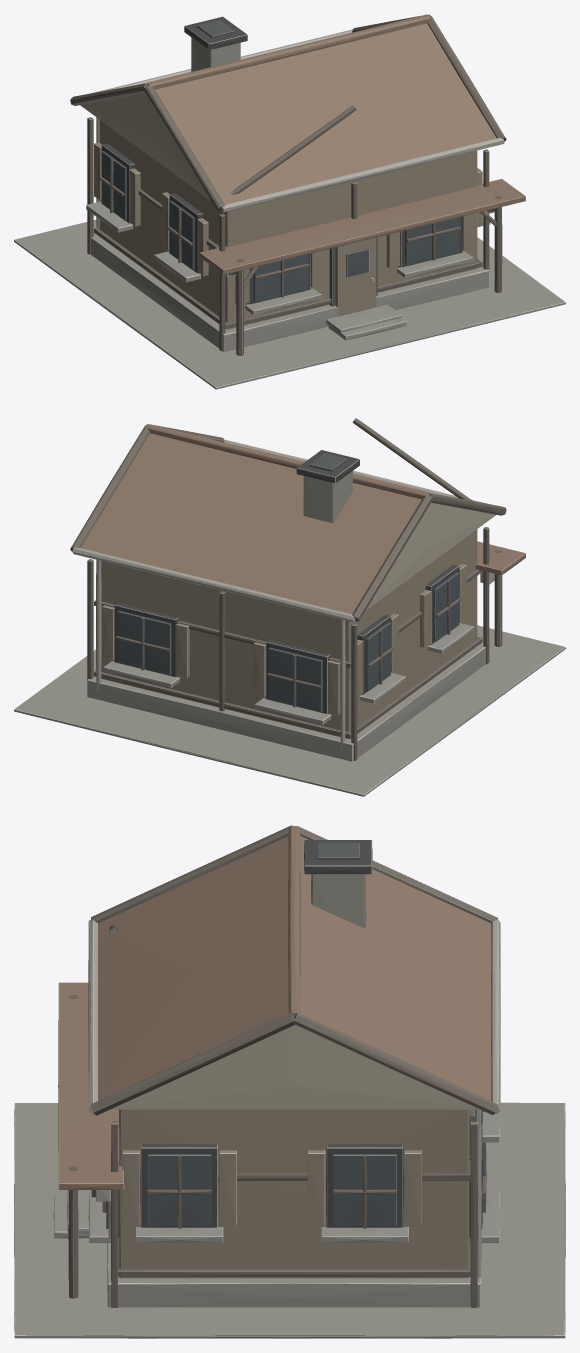
The model's file is district_art_3.glb.
3 renders of one model, top to bottom at view 1: azimuth 30°, elevation 25°; view 2: azimuth 150°, elevation 25°; view 3: azimuth 270°, elevation 25°, orthographic. The views are drawn at different scales.
Parts seen in each view (by area): view 1: roof, stone, wood, timber, glass, plaster, metal, trim, dark; view 2: roof, stone, wood, timber, glass, metal, trim, plaster; view 3: roof, stone, wood, timber, plaster, glass, trim, metal, dark.
Part boxes in pixels (x1,y1,x2,y2): roof: [147, 14, 525, 274]; stone: [14, 37, 565, 389]; wood: [94, 120, 482, 329]; timber: [70, 14, 506, 355]; glass: [101, 151, 459, 302]; plaster: [80, 93, 210, 200]; metal: [90, 29, 504, 281]; trim: [101, 16, 494, 304]; dark: [197, 20, 377, 306]; roof: [80, 424, 525, 614]; stone: [14, 471, 565, 796]; wood: [101, 529, 477, 738]; timber: [70, 418, 506, 760]; glass: [117, 572, 458, 711]; metal: [72, 439, 494, 750]; trim: [114, 450, 494, 713]; plaster: [366, 502, 496, 610]; roof: [58, 826, 491, 1189]; stone: [14, 874, 565, 1338]; wood: [108, 1109, 474, 1278]; timber: [68, 825, 498, 1307]; plaster: [110, 1025, 479, 1109]; glass: [106, 1110, 482, 1228]; trim: [91, 840, 474, 1237]; metal: [88, 919, 500, 1277]; dark: [317, 842, 359, 859].
Bounding box in the file's own units: 12.5 × 8.39 × 12.5.
